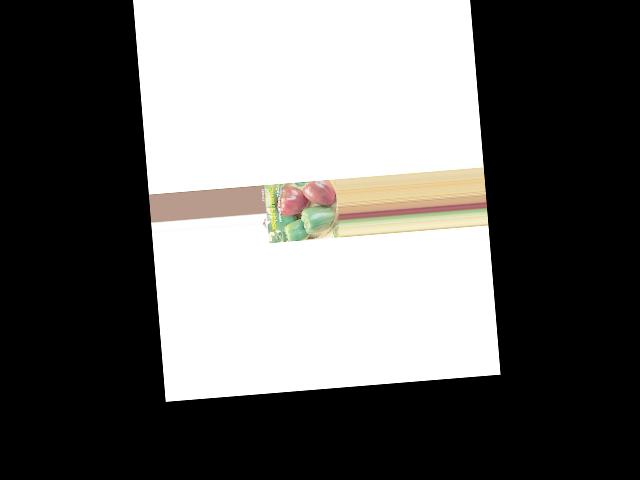bell_pepper: (281, 220, 314, 243)
